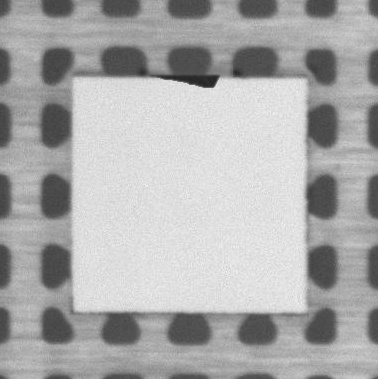DIE_BROKEN: (157, 71, 221, 90)
